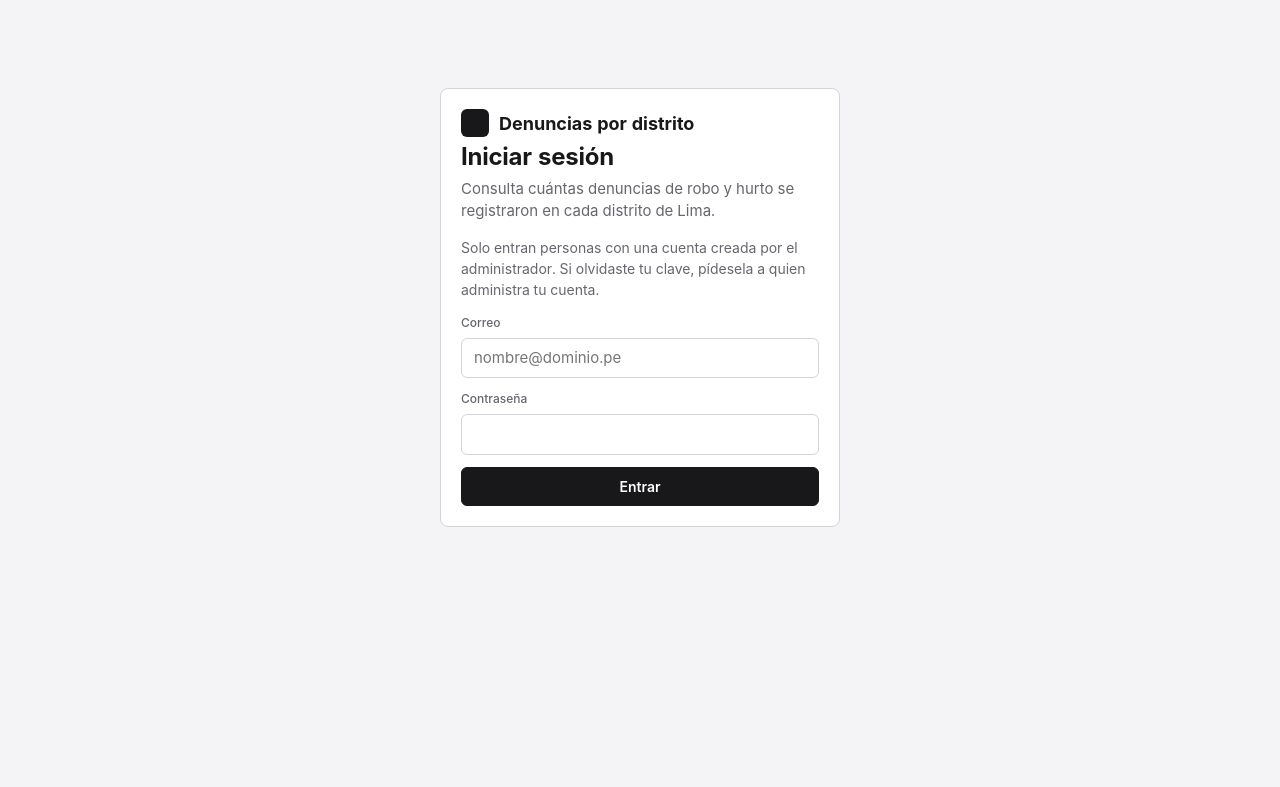
Test: meses sin denuncias registradas todavía › en el gráfico los últimos puntos son las estimaciones: se leen en una frase y la tabla los marca sin inventar el registrado
The image size is (1280, 787).
In the field labelled "Correo": (640, 358) [461, 338, 819, 378], type "alguien@prueba.pe"
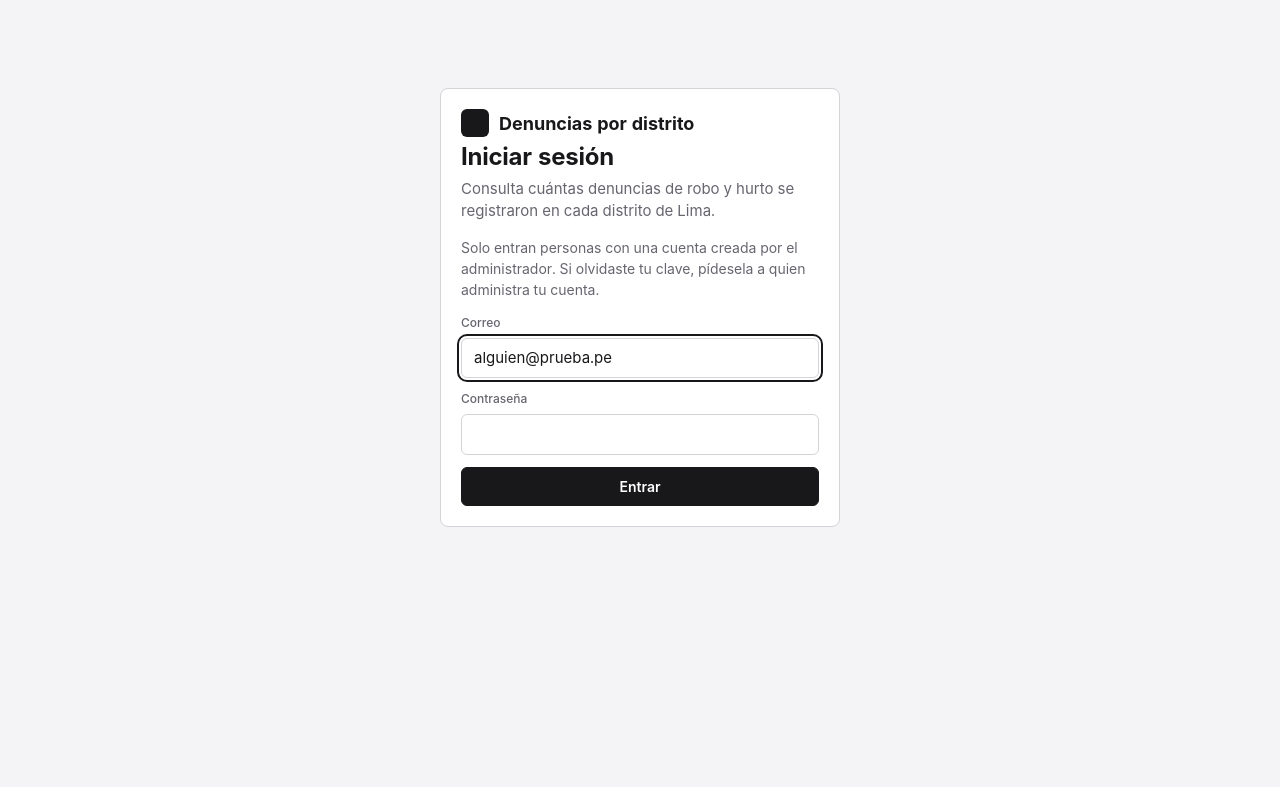
In the password field labelled "Contraseña": (640, 435) [461, 414, 819, 455], type "clave-segura-123"
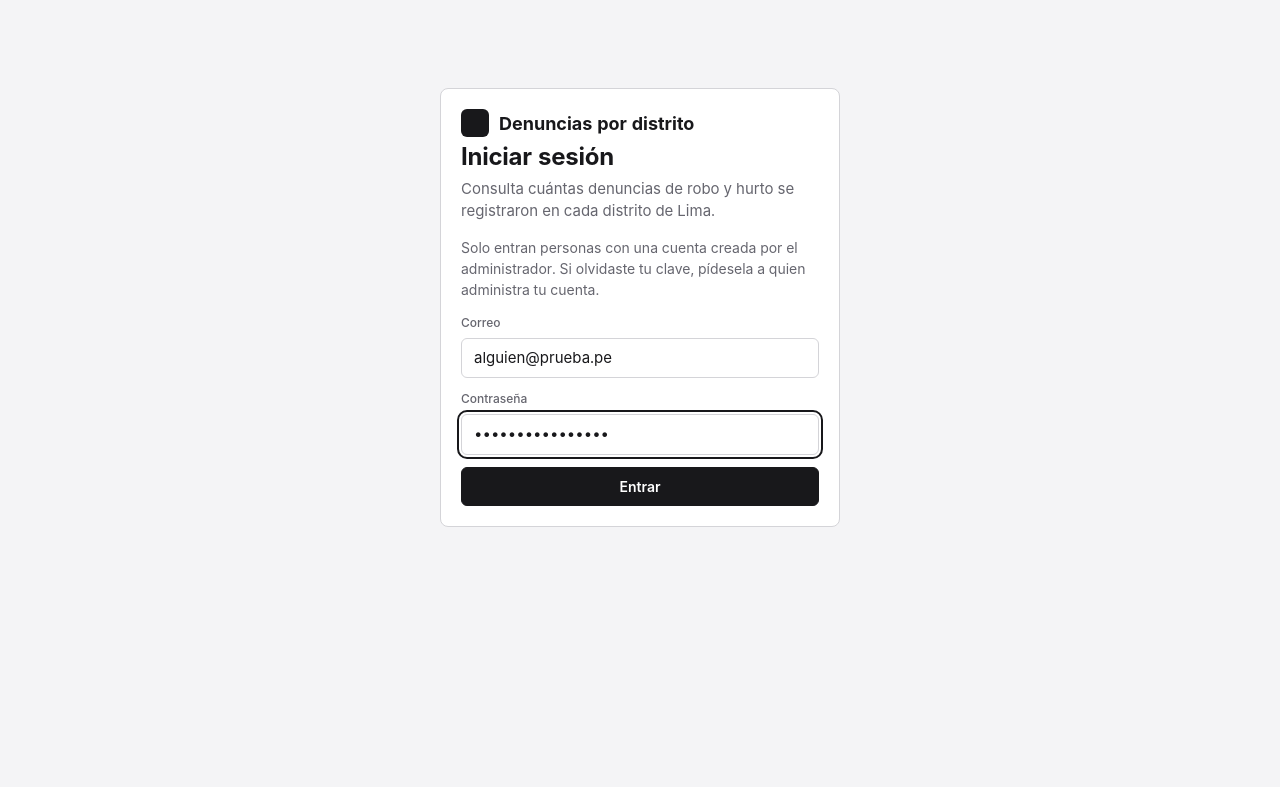
Click the button "Entrar": (640, 486) [461, 467, 819, 506]
(page scrolled)
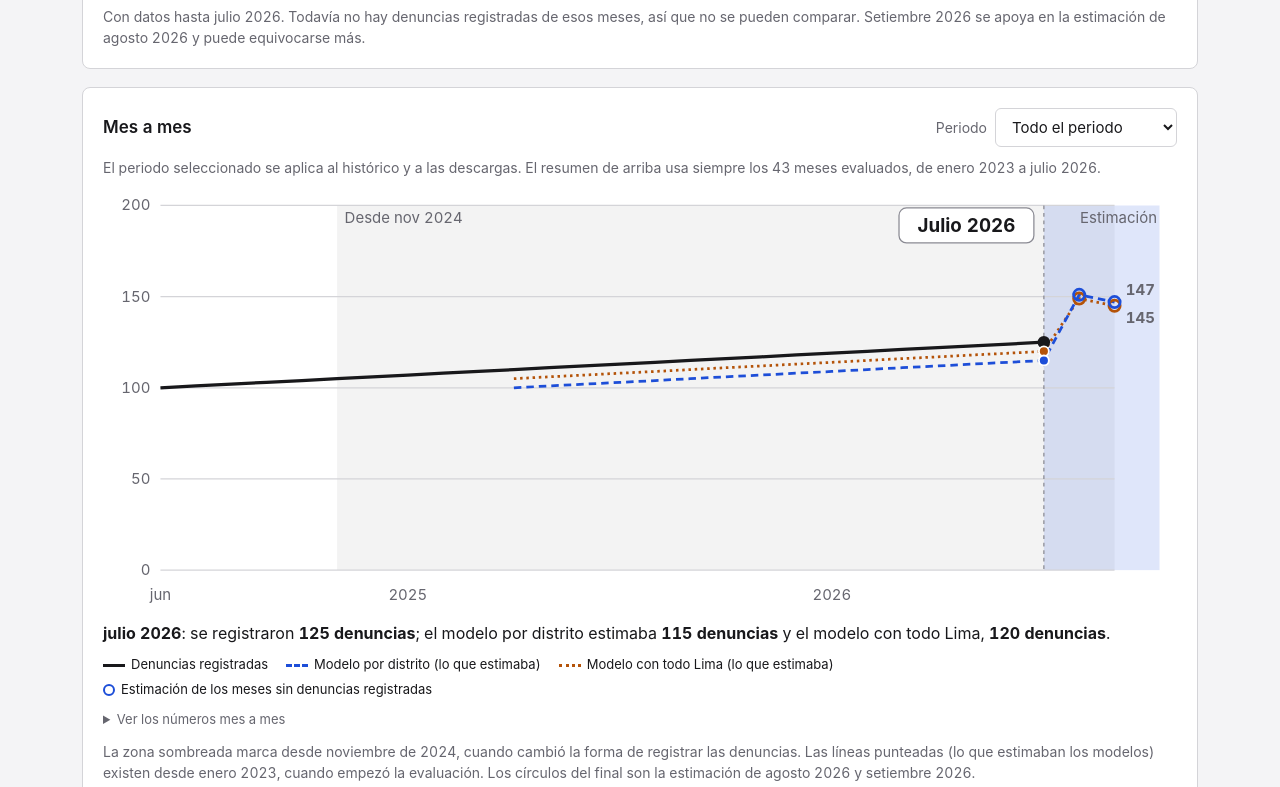
expect the element with class "readout" shows "julio 2026": met, box [103, 623, 182, 643]
Press ArrowRight in the picture named "Usa las flechas", box [103, 188, 1177, 613]
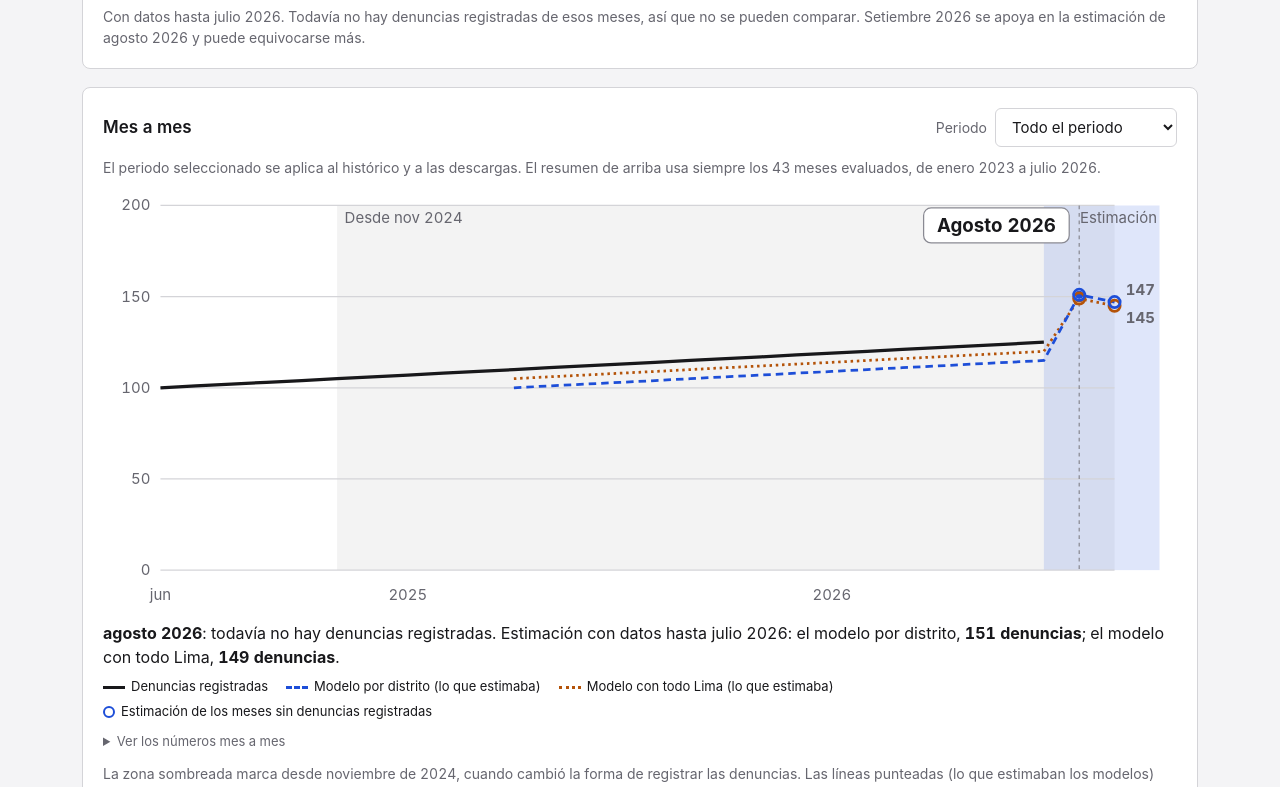
expect the element with class "readout" shows "agosto 2026: todavía no hay denuncias registradas": met, box [103, 621, 1177, 669]
expect the element with class "readout" shows "el modelo por distrito, 151 denuncias": met, box [103, 621, 1177, 669]
Press End in the picture named "Usa las flechas", box [103, 188, 1177, 613]
(page scrolled)
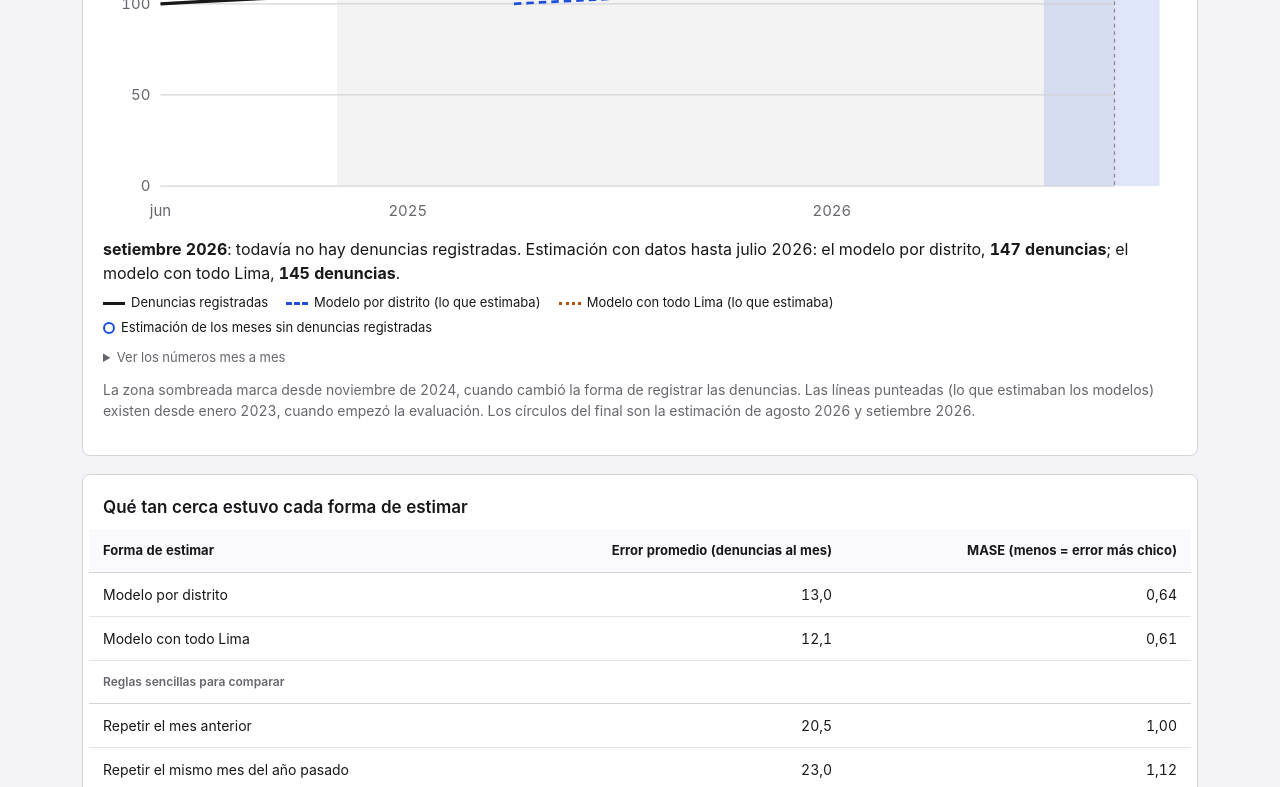
expect the element with class "readout" shows "setiembre 2026: todavía no hay denuncias registradas": met, box [103, 237, 1177, 285]
expect the element with class "readout" shows "el modelo por distrito, 147 denuncias": met, box [103, 237, 1177, 285]
expect the element with class "readout" shows "el modelo con todo Lima, 145 denuncias": met, box [103, 237, 1177, 285]
